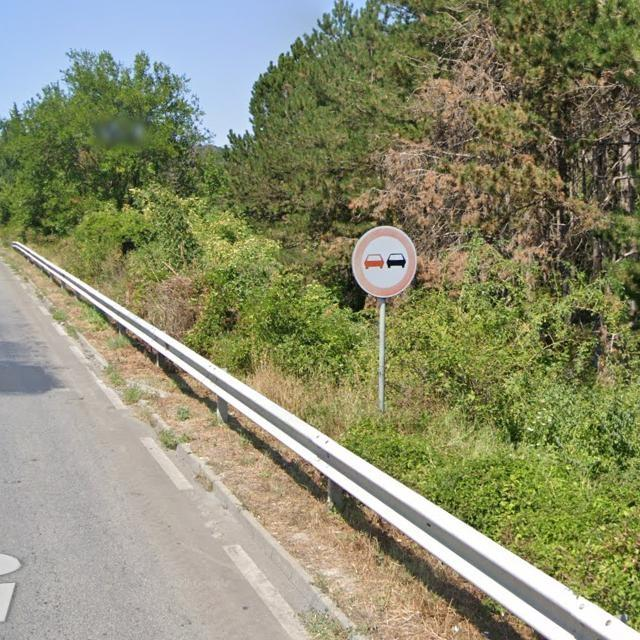forb_overtake: (351, 225, 420, 300)
